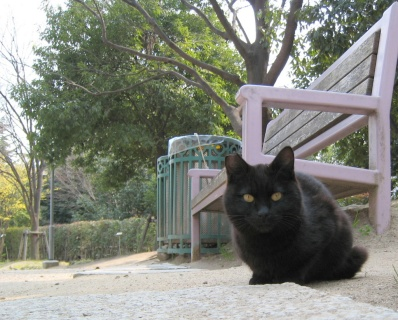Cat: (219, 145, 368, 284)
